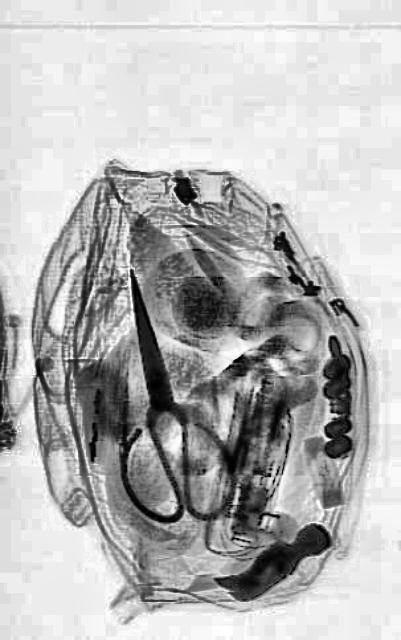Scissors: (79, 244, 241, 548)
